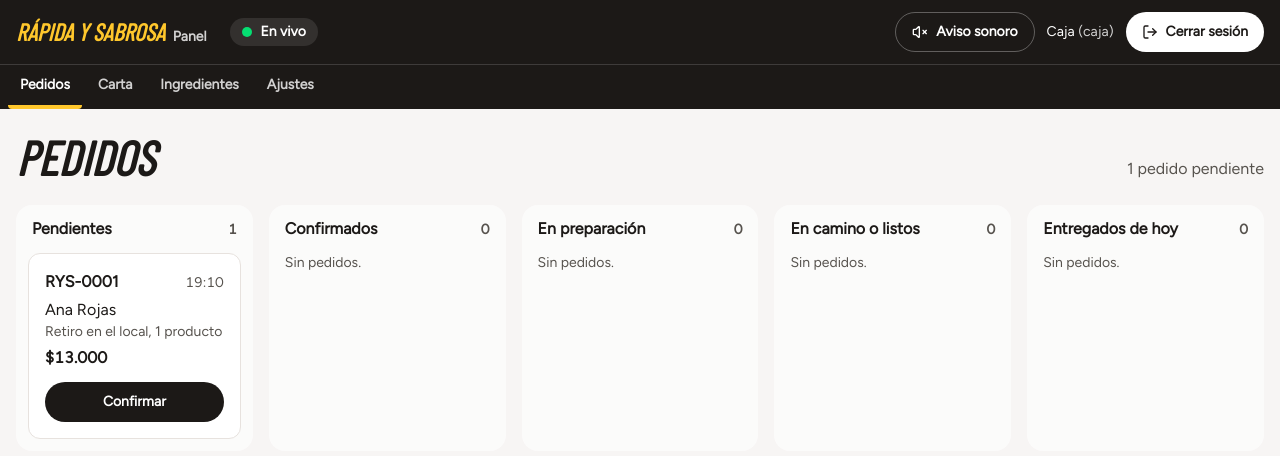
Test case: tablero de pedidos › si otra persona ya lo cambió, avisa en la tarjeta y muestra el estado real
Expected: the heading "Pedidos" is shown, top-left (16, 133), bottom-right (155, 181)
Click the button named "Confirmar RYS-0001" at (134, 402), box top-left (45, 382), bottom-right (224, 422)
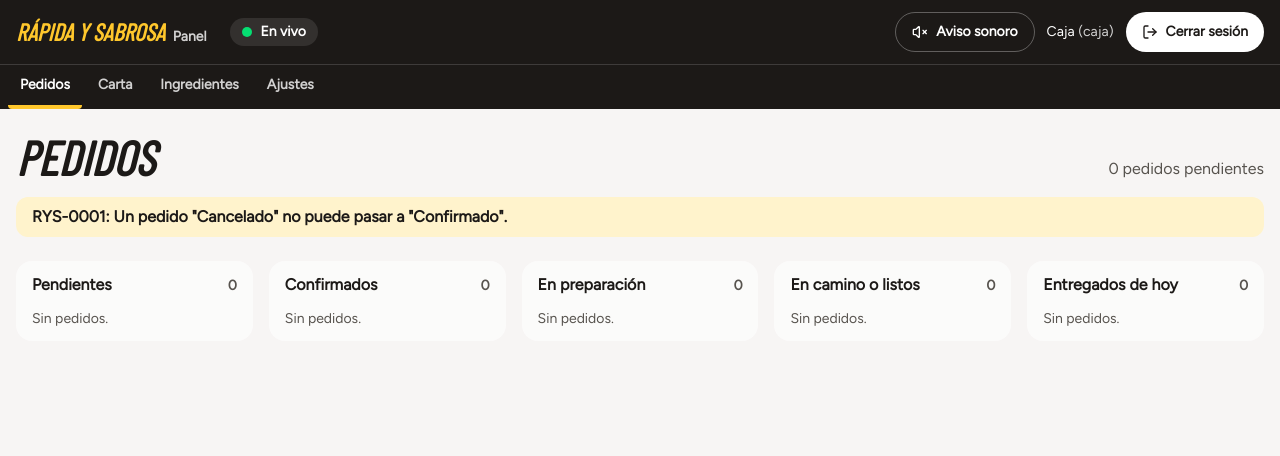
Expected: the message "RYS-0001: Un pedido \"Cancelado\" no puede pasar a \"Confirmado\"." reads "RYS-0001: Un pedido \"Cancelado\" no puede pasar a \"Confirmado\".", top-left (16, 197), bottom-right (1264, 237)
